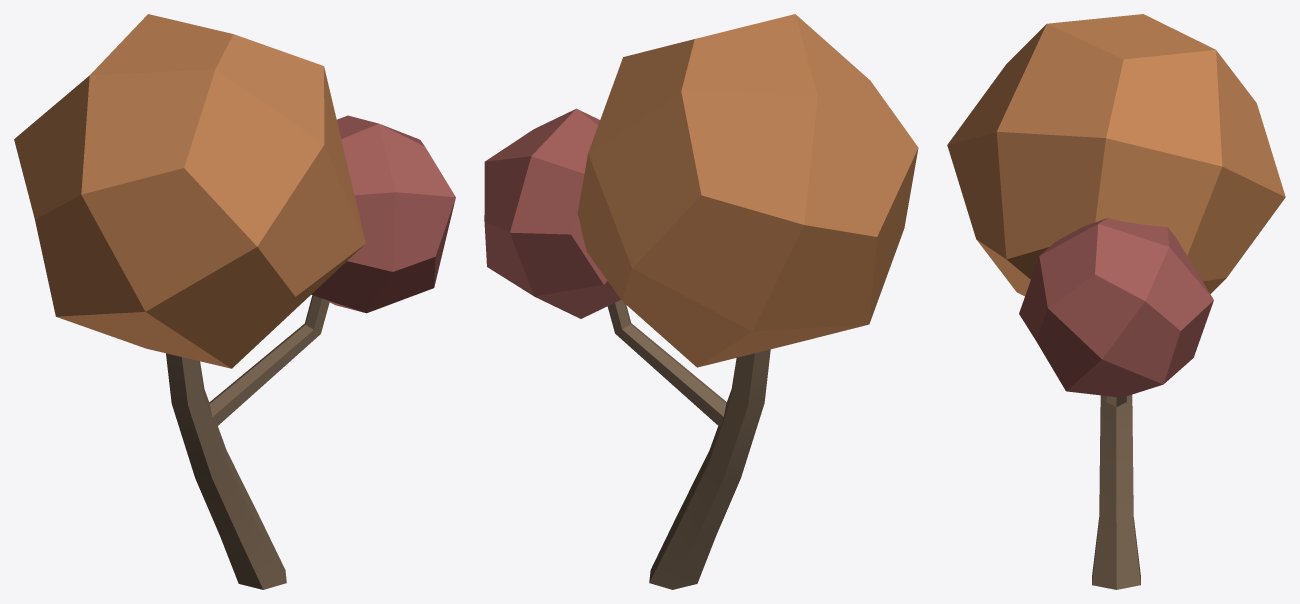
File: Tree_05.fbx
3 renders of one model, left to right at view 1: azimuth 30°, elevation 25°; view 2: azimuth 150°, elevation 25°; view 3: azimuth 270°, elevation 25°, orthographic. The views are drawn at different scales.
Parts seen in each view (by area): view 1: Tree_05; view 2: Tree_05; view 3: Tree_05.
Boxes of the visible parts, x1,y1,x2,y2 form: Tree_05: [14, 14, 455, 589]; Tree_05: [484, 14, 918, 589]; Tree_05: [947, 14, 1285, 589].
Bounding box in the file's own units: 114 × 153 × 90.3.
